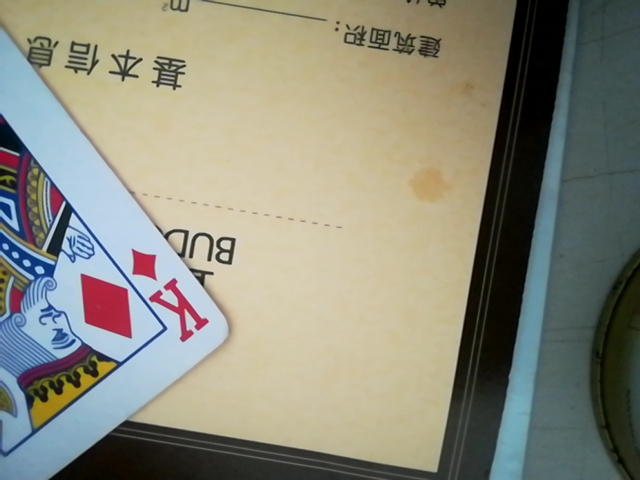fk k: (0, 6, 225, 480)
